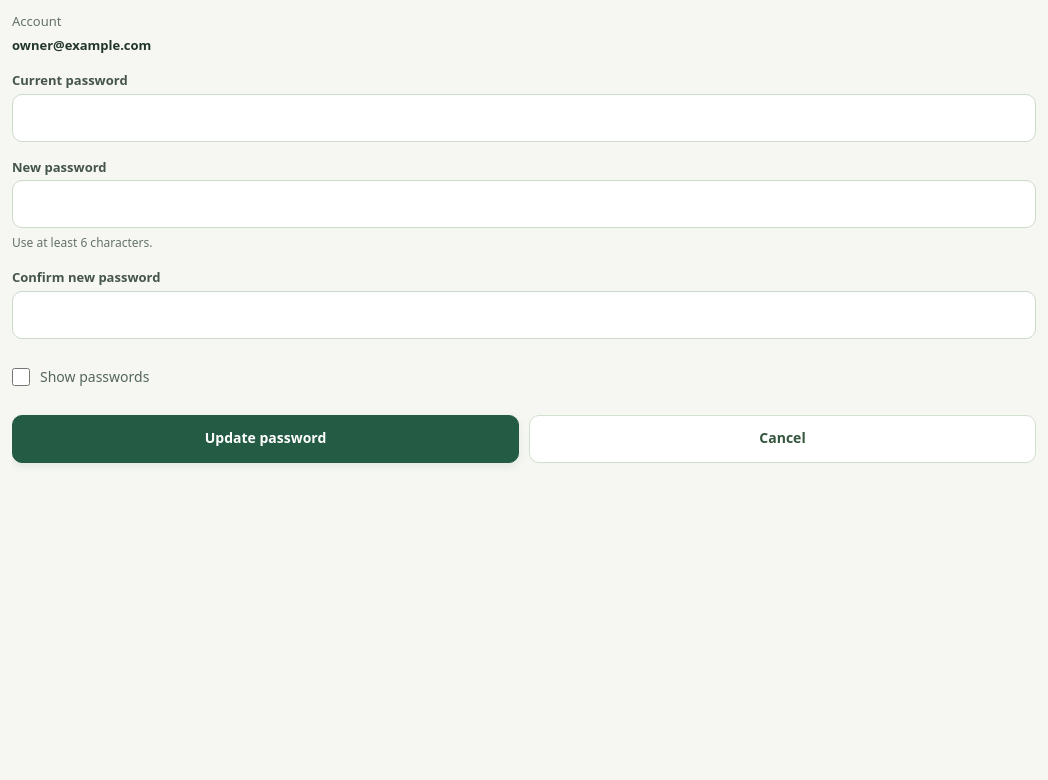
password updates › blocks an incorrect current password and mismatched new passwords
Type "wrong-password" into the password field labelled "Current password". click: (524, 118)
box: [12,94,1036,142]
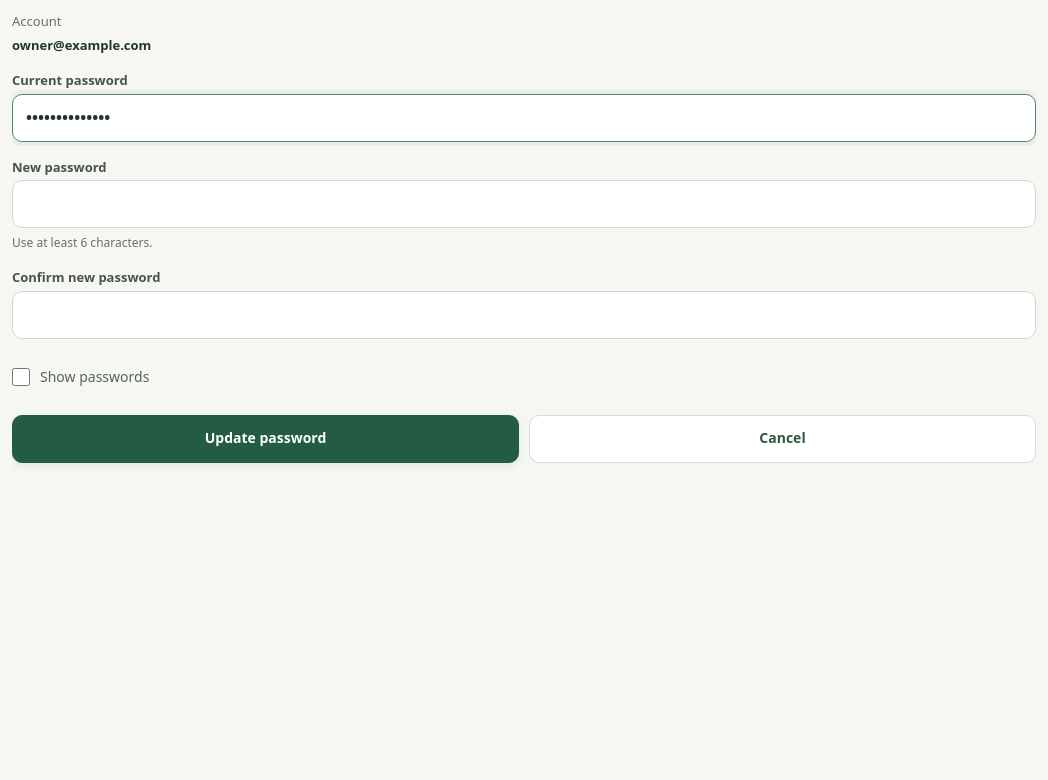
Type "new-password-42" into the password field labelled "New password". click: (524, 204)
box: [12,180,1036,228]
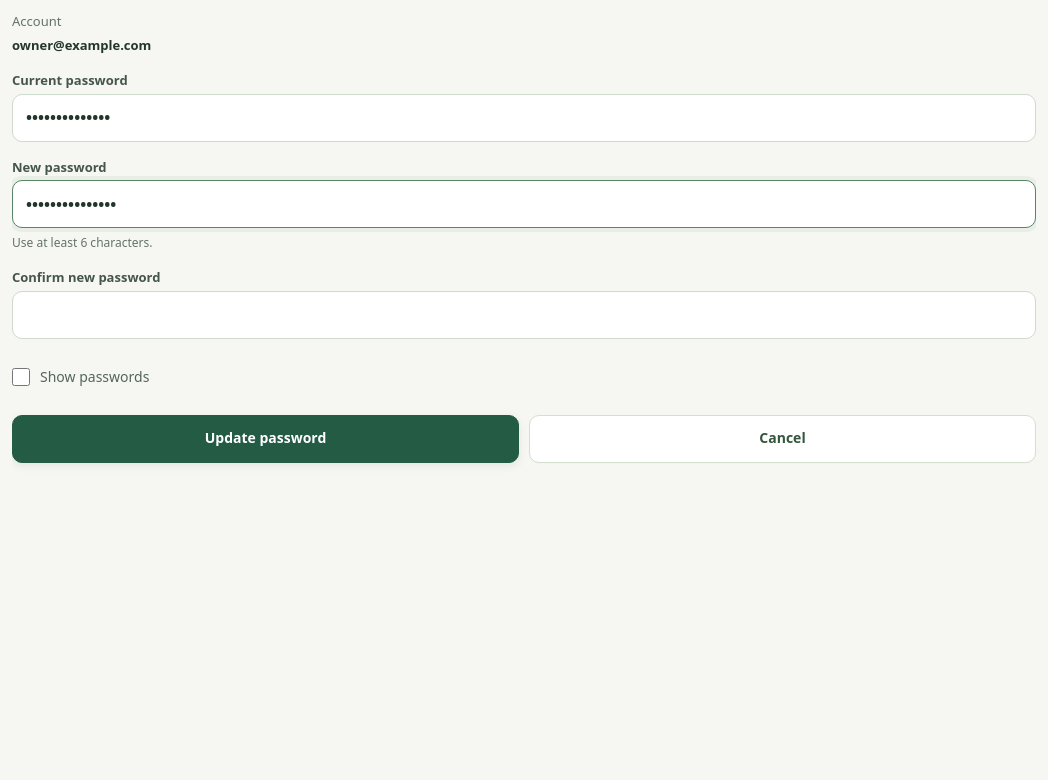
Type "different-password" into the password field labelled "Confirm new password". click: (524, 315)
box: [12,291,1036,339]
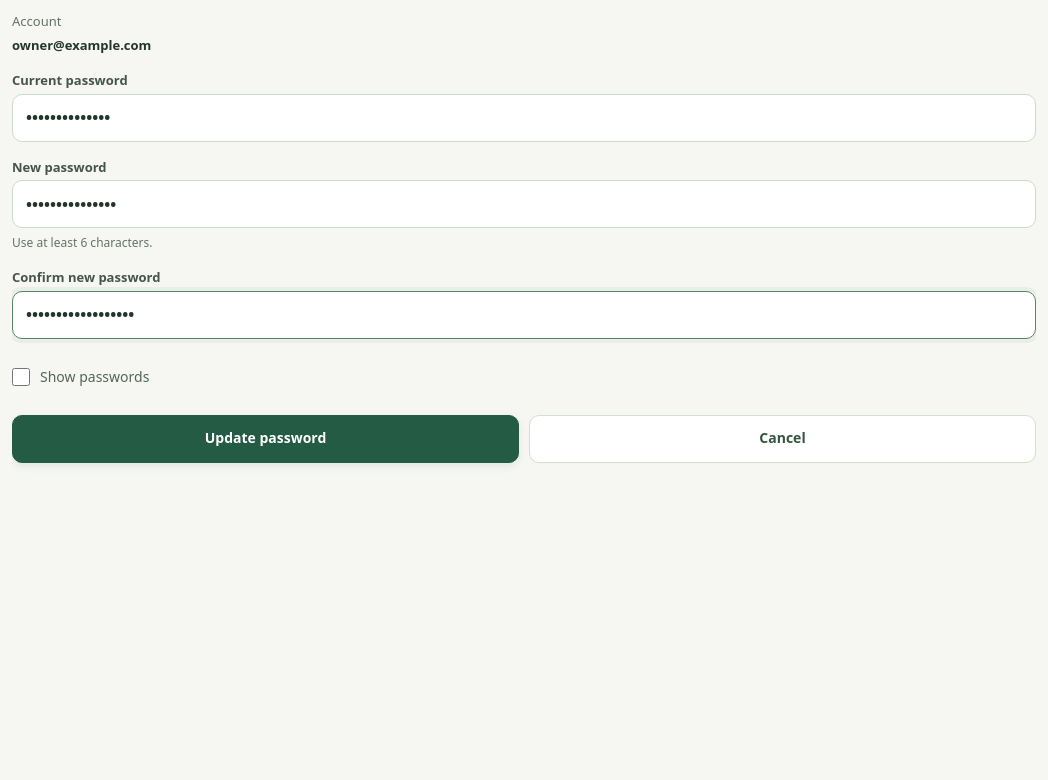
Click the button "Update password". click: (266, 439)
box: [12,415,519,463]
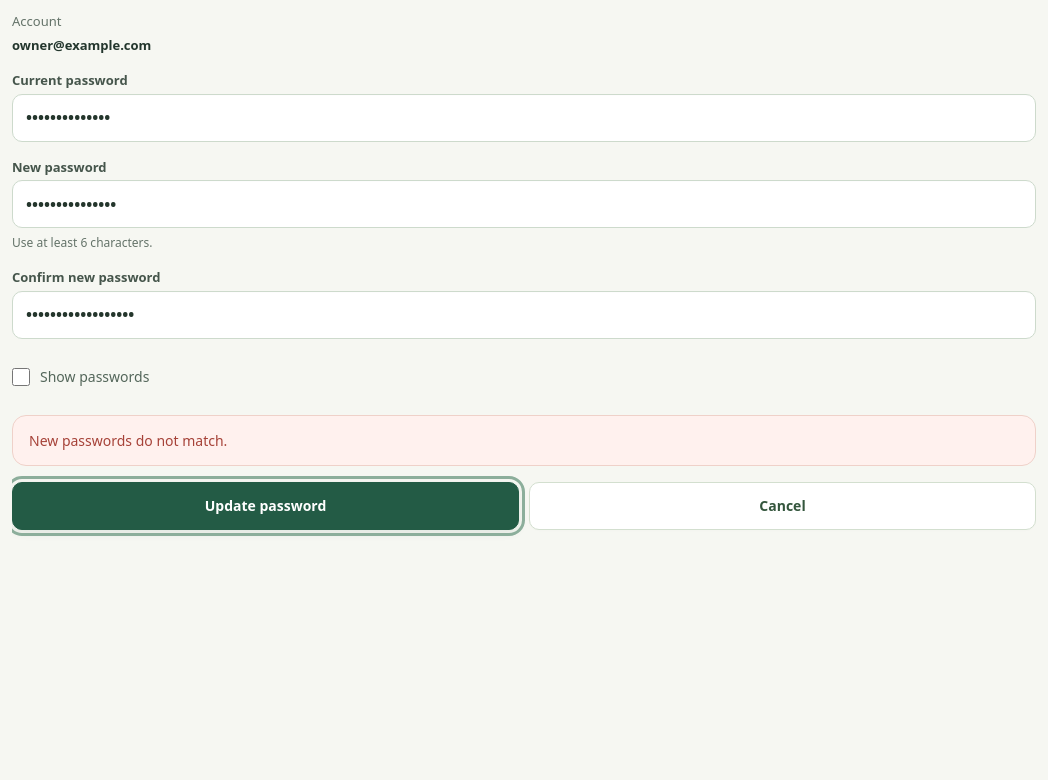
Expected: the message reads "New passwords do not match.", [29,431,227,450]
Type "new-password-42" into the password field labelled "Confirm new password". click: (524, 315)
box: [12,291,1036,339]
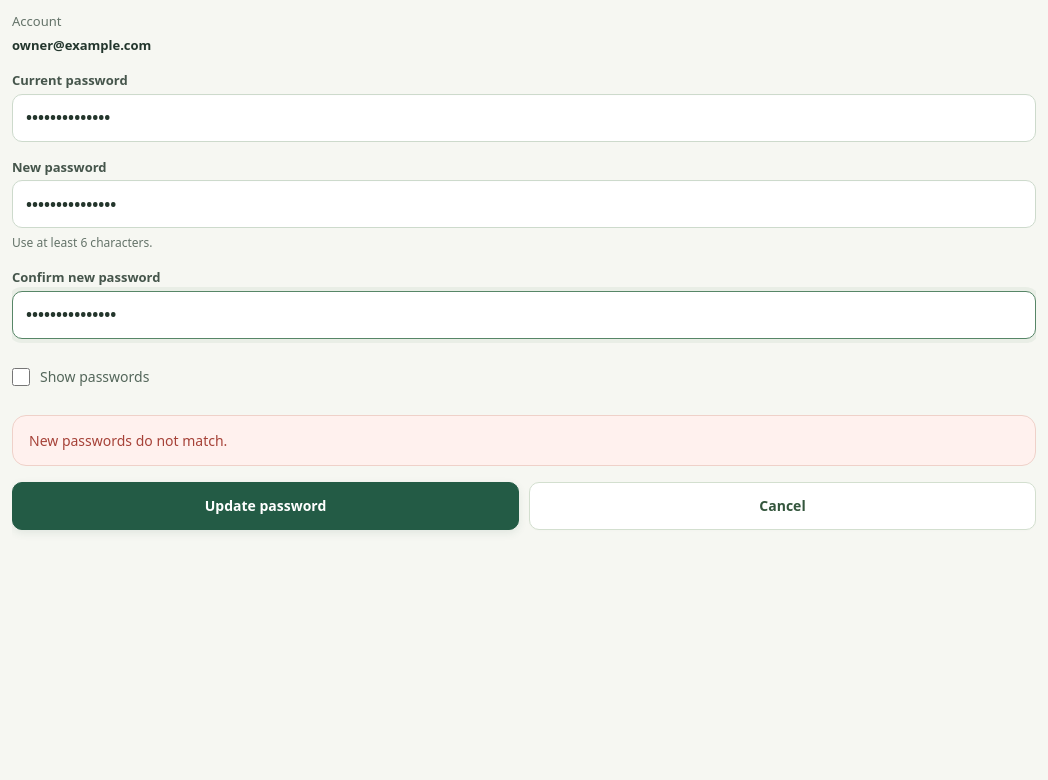
Click the button "Update password". click: (266, 506)
box: [12,482,519,530]
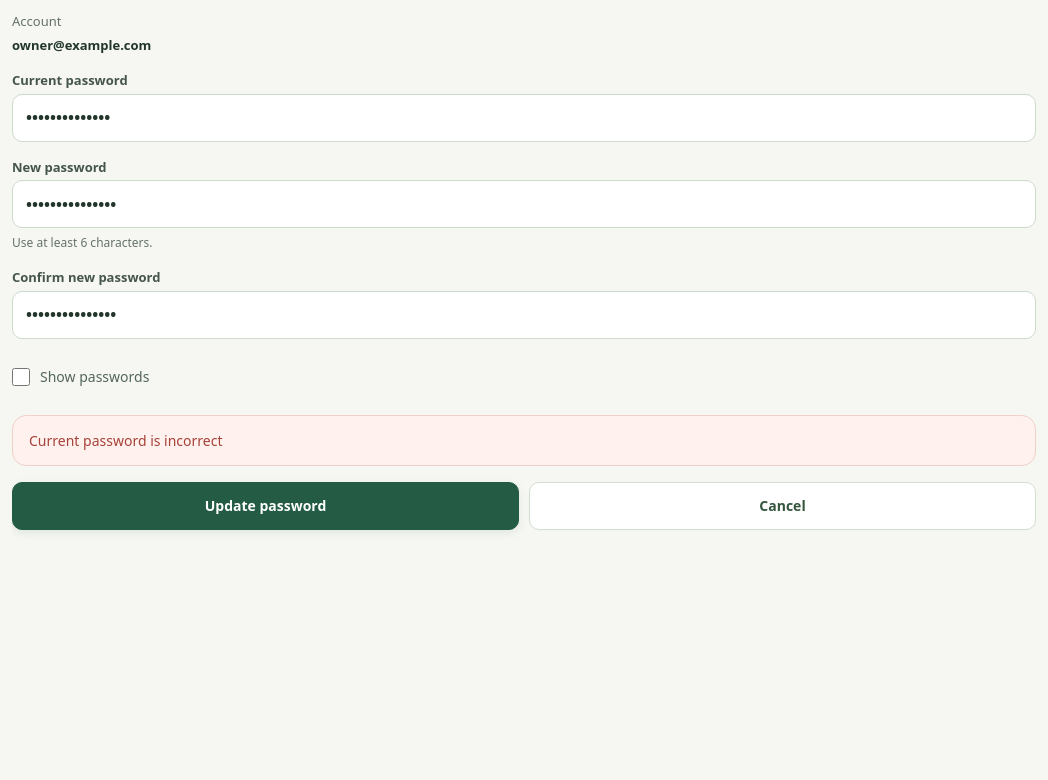
Expected: the message reads "Current password is incorrect", [29,431,222,450]
